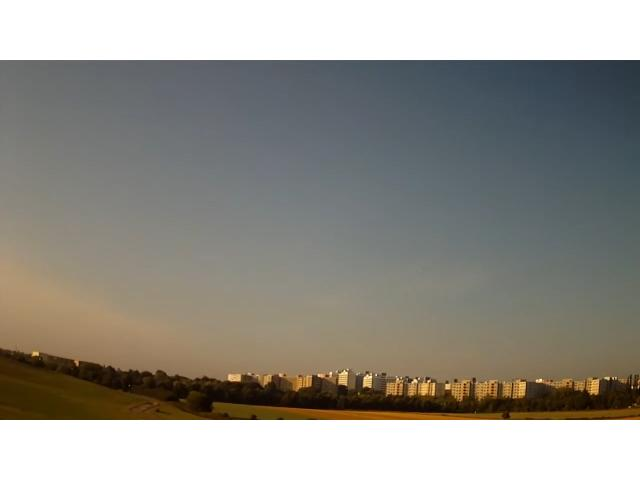Anti-Drone: (408, 261, 428, 275)
